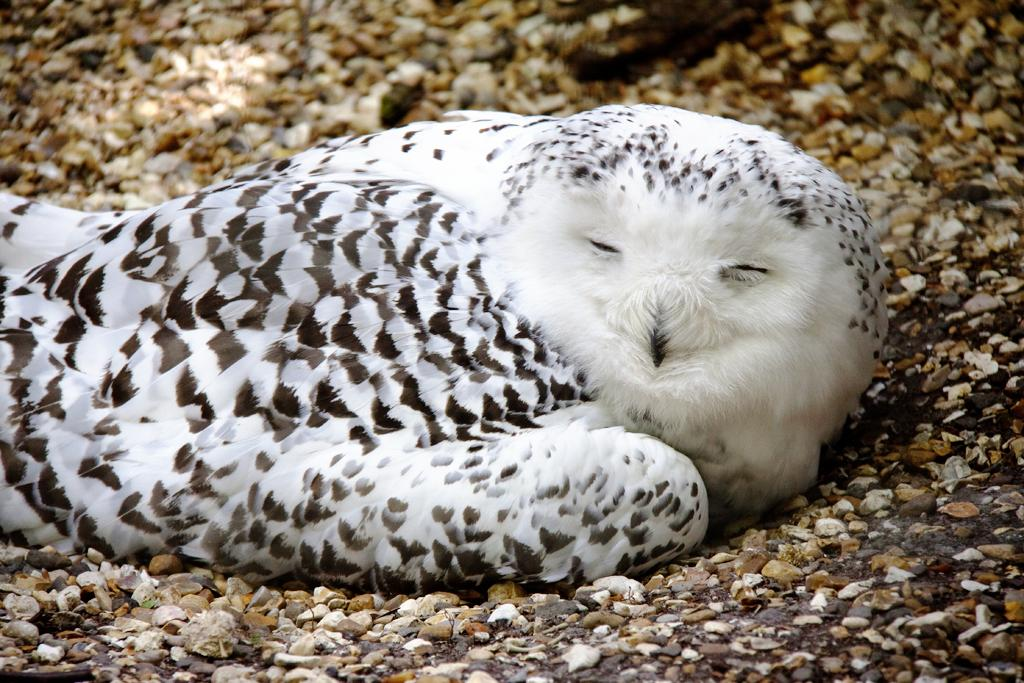Owl: (44, 92, 882, 610)
